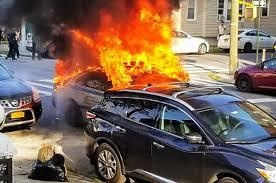fire: (50, 2, 188, 93)
